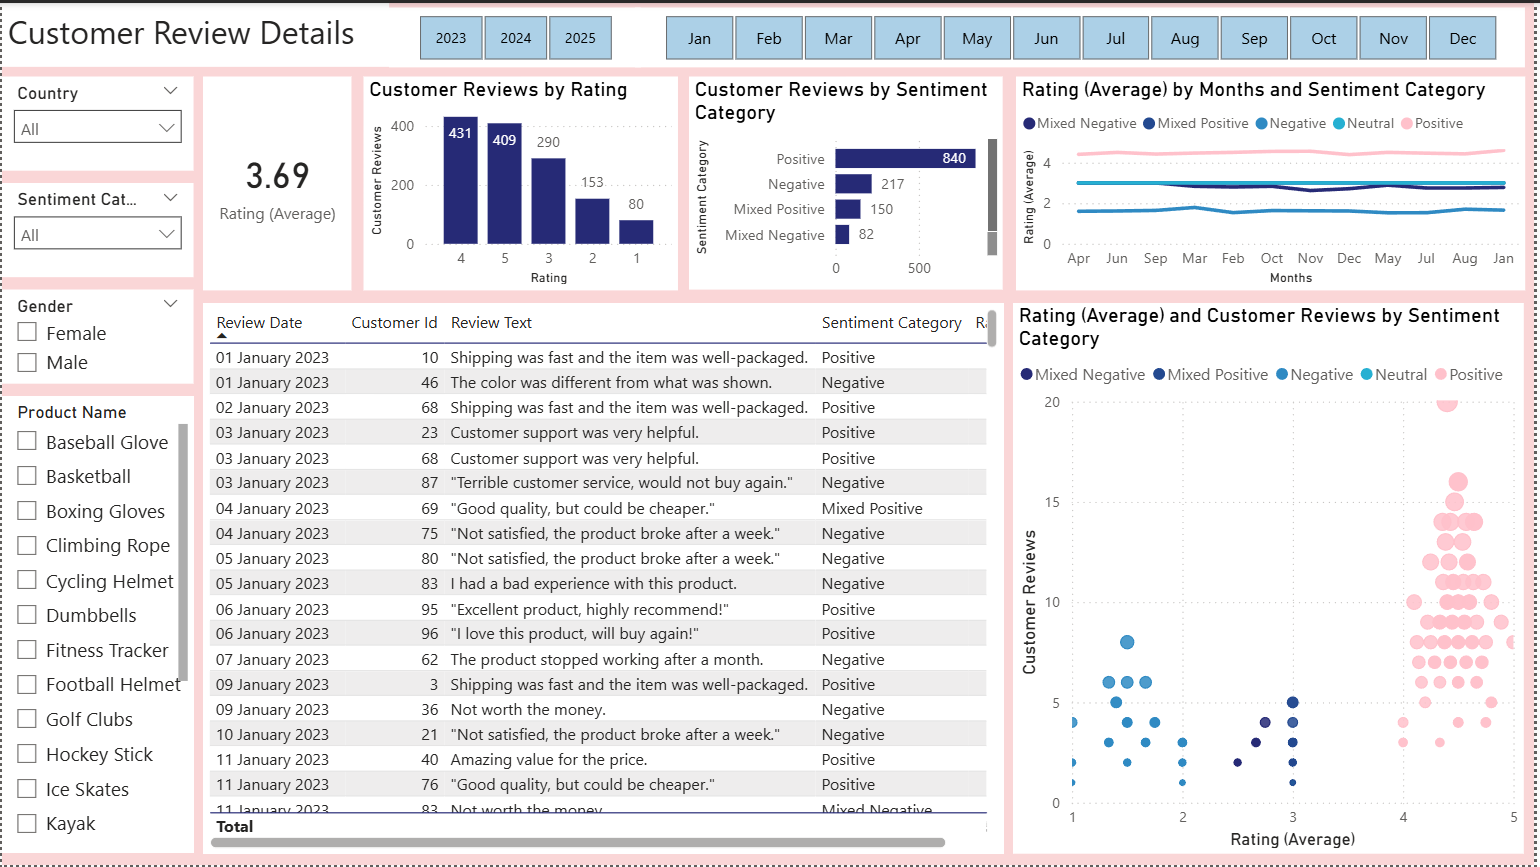

What the dashboard file says about the page in this screenshot:
{"tool":"powerbi","page":{"name":"Customer Review Details","canvas":[1280,720],"ordinal":3},"visuals":[{"type":"textbox","box":[0,0,323.3,53.3],"z":0},{"type":"card","fields":{"Values":["_measures.Rating (Average)"]},"box":[168.5,61.9,123.8,178.5],"z":1000},{"type":"lineChart","fields":{"Category":["Calendar.MonthNameShort"],"Y":["_measures.Rating (Average)"],"Series":["fact_customer_reviews_with_sentiment.sentiment_category"]},"box":[846.7,61.7,425,178.3],"z":2000},{"type":"tableEx","fields":{"Values":["fact_customer_reviews_with_sentiment.review_date","fact_customer_reviews_with_sentiment.customer_id","fact_customer_reviews_with_sentiment.review_text","fact_customer_reviews_with_sentiment.sentiment_category","Sum(fact_customer_reviews_with_sentiment.rating)"]},"box":[168.3,250,668.3,460],"z":3000},{"type":"columnChart","fields":{"Y":["_measures.Number of Customer Reviews"],"Category":["fact_customer_reviews_with_sentiment.rating"]},"box":[302.4,62,262.4,178.4],"z":4000},{"type":"clusteredBarChart","fields":{"Category":["fact_customer_reviews_with_sentiment.sentiment_category"],"Y":["_measures.Number of Customer Reviews"]},"box":[574,62,262,178],"z":5000},{"type":"scatterChart","title":"Rating (Average) and Customer Reviews by Sentiment Category","fields":{"Category":["fact_customer_reviews_with_sentiment.customer_id"],"X":["_measures.Rating (Average)"],"Y":["_measures.Number of Customer Reviews"],"Series":["fact_customer_reviews_with_sentiment.sentiment_category"],"Size":["_measures.Number of Customer Reviews"]},"box":[845,250,426.7,460],"z":7000},{"type":"slicer","fields":{"Values":["Calendar.MonthNameShort"]},"box":[528.3,3.3,743.3,50],"z":8000},{"type":"slicer","fields":{"Values":["Calendar.Year"]},"box":[323.3,3.3,210,50],"z":9000},{"type":"slicer","fields":{"Values":["fact_customer_reviews_with_sentiment.sentiment_category"]},"box":[0,150,160,78.3],"z":10000},{"type":"slicer","fields":{"Values":["gold dim_customers.country"]},"box":[0,61.7,160,78.3],"z":11000},{"type":"slicer","fields":{"Values":["gold dim_products.product_name"]},"box":[0,328.6,160,381.4],"z":12000},{"type":"slicer","fields":{"Values":["gold dim_customers.gender"]},"box":[0,239,160,78.6],"z":13000}]}

Visuals, with their boxes in screenshot pixels (x1, y1, x2, y2), scaled from the page's 1280x720 canvas onto the 1540x867 screenshot:
textbox: x1=0 y1=0 x2=389 y2=64
card - _measures.Rating (Average): x1=203 y1=75 x2=352 y2=289
lineChart - Calendar.MonthNameShort x _measures.Rating (Average): x1=1019 y1=74 x2=1530 y2=289
tableEx - fact_customer_reviews_with_sentiment.review_date x fact_customer_reviews_with_sentiment.customer_id: x1=202 y1=301 x2=1007 y2=855
columnChart - _measures.Number of Customer Reviews x fact_customer_reviews_with_sentiment.rating: x1=364 y1=75 x2=680 y2=289
clusteredBarChart - fact_customer_reviews_with_sentiment.sentiment_category x _measures.Number of Customer Reviews: x1=691 y1=75 x2=1006 y2=289
"Rating (Average) and Customer Reviews by Sentiment Category" scatterChart: x1=1017 y1=301 x2=1530 y2=855
slicer - Calendar.MonthNameShort: x1=636 y1=4 x2=1530 y2=64
slicer - Calendar.Year: x1=389 y1=4 x2=642 y2=64
slicer - fact_customer_reviews_with_sentiment.sentiment_category: x1=0 y1=181 x2=192 y2=275
slicer - gold dim_customers.country: x1=0 y1=74 x2=192 y2=169
slicer - gold dim_products.product_name: x1=0 y1=396 x2=192 y2=855
slicer - gold dim_customers.gender: x1=0 y1=288 x2=192 y2=382
